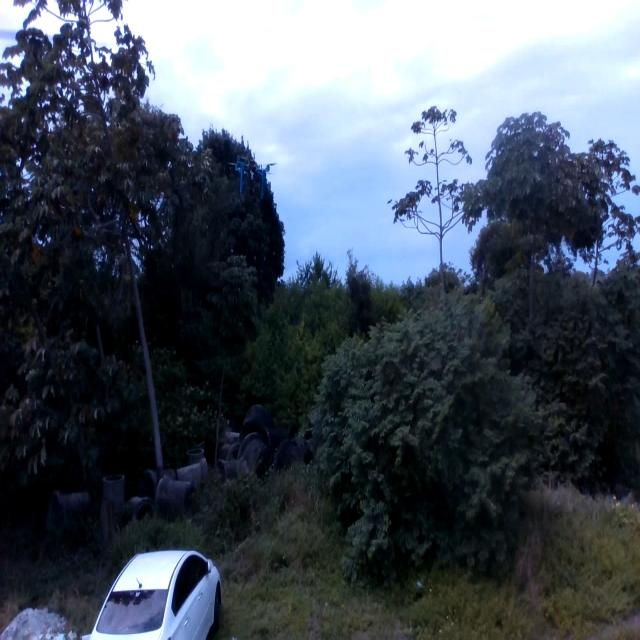-uav-: (228, 145, 281, 216)
